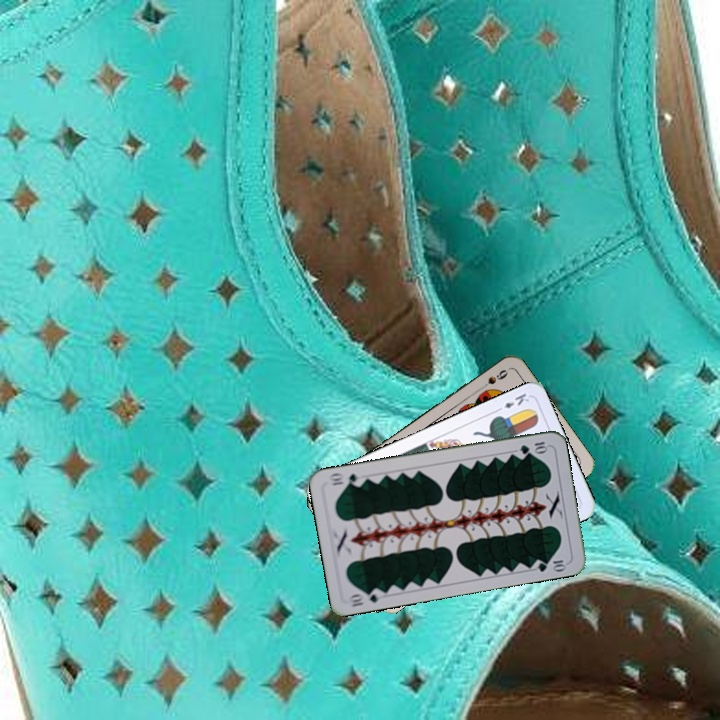EK: (492, 389, 532, 415)
G10: (344, 585, 386, 609), (516, 437, 550, 456)
S9: (475, 365, 510, 393)
